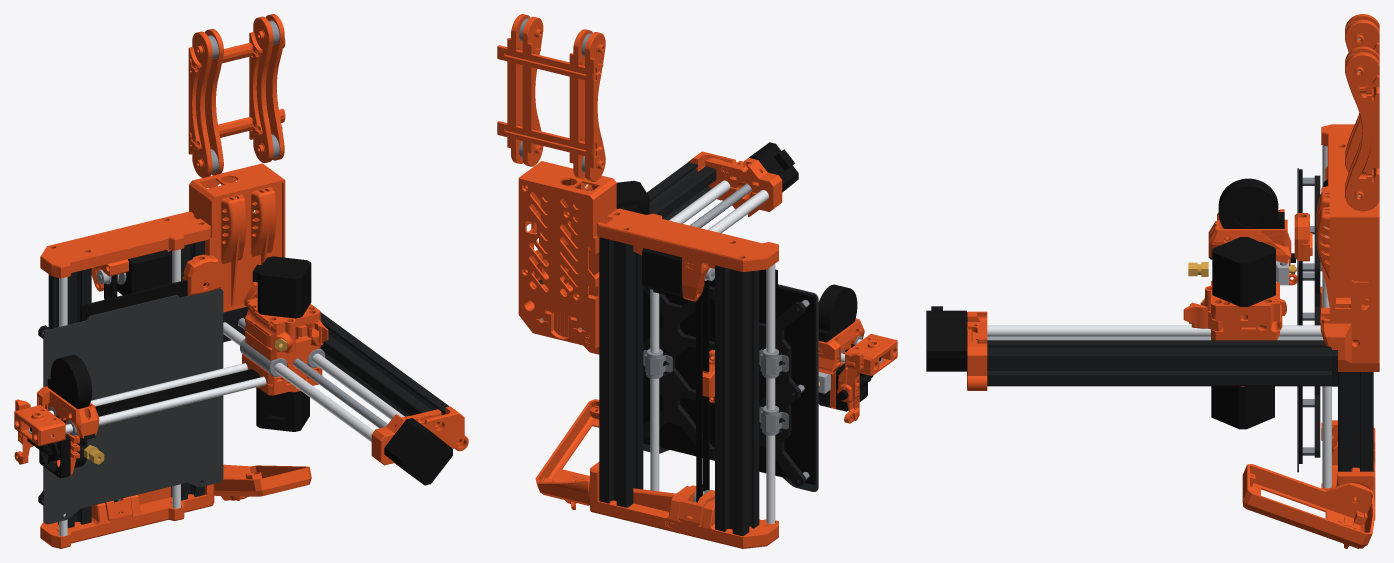
File: mini.glb
3 renders of one model, left to right at view 1: azimuth 30°, elevation 25°; view 2: azimuth 150°, elevation 25°; view 3: azimuth 270°, elevation 25°, orthographic. The views are drawn at different scales.
Parts seen in each view (by area): view 1: sheet, z-bottom-cover, y-plate-rear, z-extrusion, y-plate-front, z-bottom, e-motor-motor, spool-base-0a, spool-base-1a, z-motor-motor, display-box, z-top (+24 smaller); view 2: z-bottom, y-extrusion-left, y-extrusion-right, heatbed, y-carriage, y-plate-rear, y-plate-front, display-box, y-belt, z-top, z-extrusion, spool-base-0a (+24 smaller); view 3: z-extrusion, z-bottom, display-box, spool-base-1b, e-motor-motor, y-extrusion-right, z-rod-144, print-fan, z-motor-motor, x-motor-motor, z-top, x-carriage (+12 smaller).
Boxes of the visible parts, x1=… form: sheet: x1=43, y1=288, x2=223, y2=524; z-bottom-cover: x1=213, y1=183, x2=281, y2=309; y-plate-rear: x1=40, y1=211, x2=210, y2=291; z-extrusion: x1=320, y1=312, x2=448, y2=416; y-plate-front: x1=40, y1=484, x2=214, y2=548; z-bottom: x1=189, y1=163, x2=285, y2=325; e-motor-motor: x1=252, y1=256, x2=311, y2=318; spool-base-0a: x1=188, y1=31, x2=212, y2=177; spool-base-1a: x1=249, y1=16, x2=273, y2=163; z-motor-motor: x1=384, y1=418, x2=452, y2=485; display-box: x1=214, y1=464, x2=311, y2=496; z-top: x1=371, y1=406, x2=468, y2=468; z-bottom: x1=518, y1=161, x2=616, y2=354; y-extrusion-left: x1=715, y1=265, x2=759, y2=535; y-extrusion-right: x1=599, y1=237, x2=643, y2=507; heatbed: x1=643, y1=269, x2=815, y2=484; y-carriage: x1=643, y1=286, x2=805, y2=486; y-plate-rear: x1=597, y1=208, x2=778, y2=301; y-plate-front: x1=589, y1=462, x2=778, y2=548; display-box: x1=535, y1=399, x2=599, y2=505; y-belt: x1=695, y1=280, x2=709, y2=502; z-top: x1=688, y1=151, x2=782, y2=216; z-extrusion: x1=538, y1=162, x2=716, y2=284; spool-base-0a: x1=585, y1=32, x2=605, y2=181; z-extrusion: x1=987, y1=340, x2=1331, y2=386; z-bottom: x1=1329, y1=180, x2=1379, y2=371; display-box: x1=1242, y1=464, x2=1374, y2=548; spool-base-1b: x1=1345, y1=52, x2=1379, y2=211; e-motor-motor: x1=1212, y1=237, x2=1275, y2=306; y-extrusion-right: x1=1338, y1=372, x2=1373, y2=471; z-rod-144: x1=987, y1=325, x2=1321, y2=336; print-fan: x1=1218, y1=178, x2=1284, y2=228; z-motor-motor: x1=926, y1=306, x2=966, y2=371; x-motor-motor: x1=1211, y1=386, x2=1274, y2=429; z-top: x1=967, y1=311, x2=987, y2=390; x-carriage: x1=1208, y1=219, x2=1291, y2=263.
Bounding box in the file's own units: 337 × 477 × 380.
